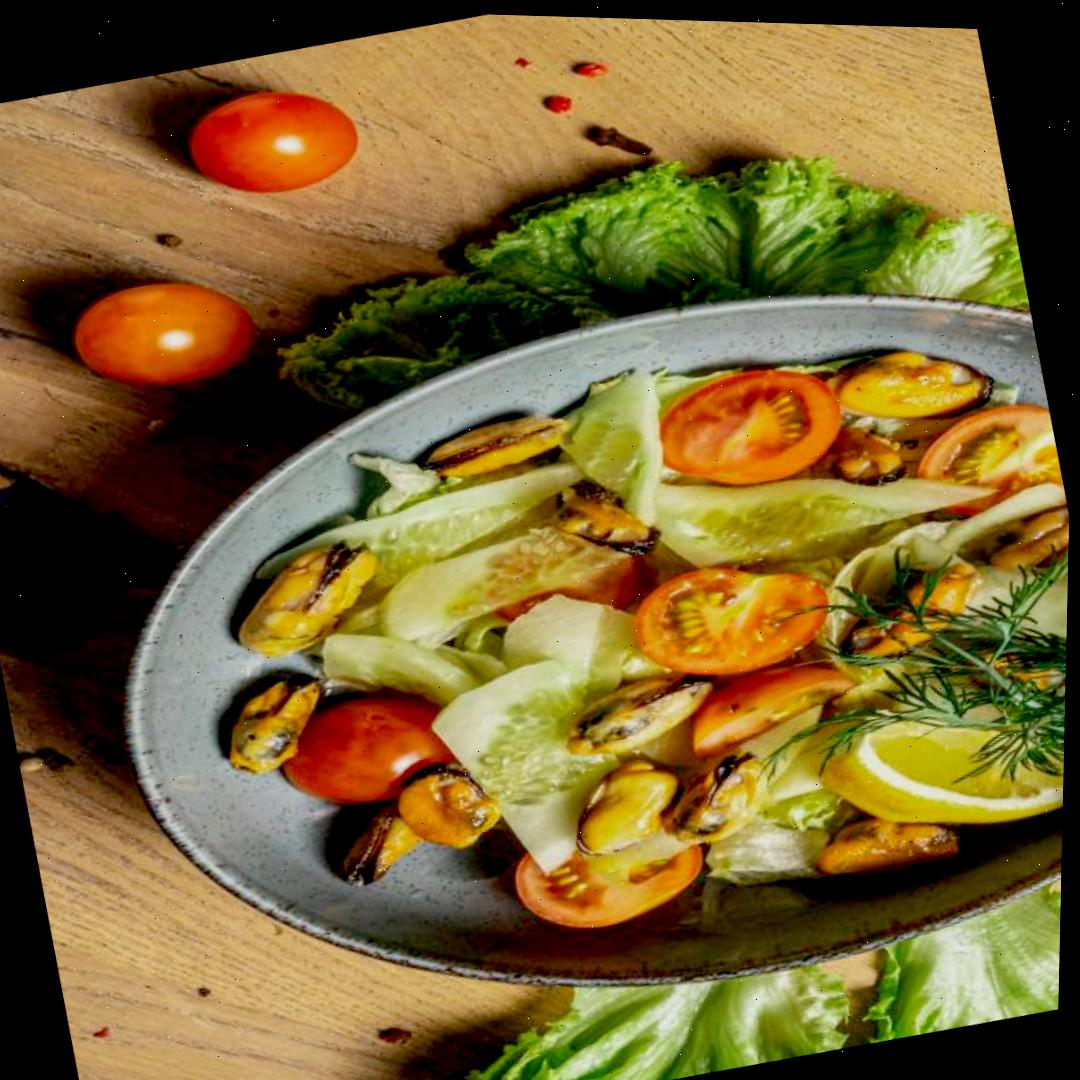matang: (638, 351, 859, 505), (265, 671, 486, 823), (626, 547, 836, 692), (62, 261, 267, 407), (176, 71, 366, 211), (901, 396, 1069, 533)
